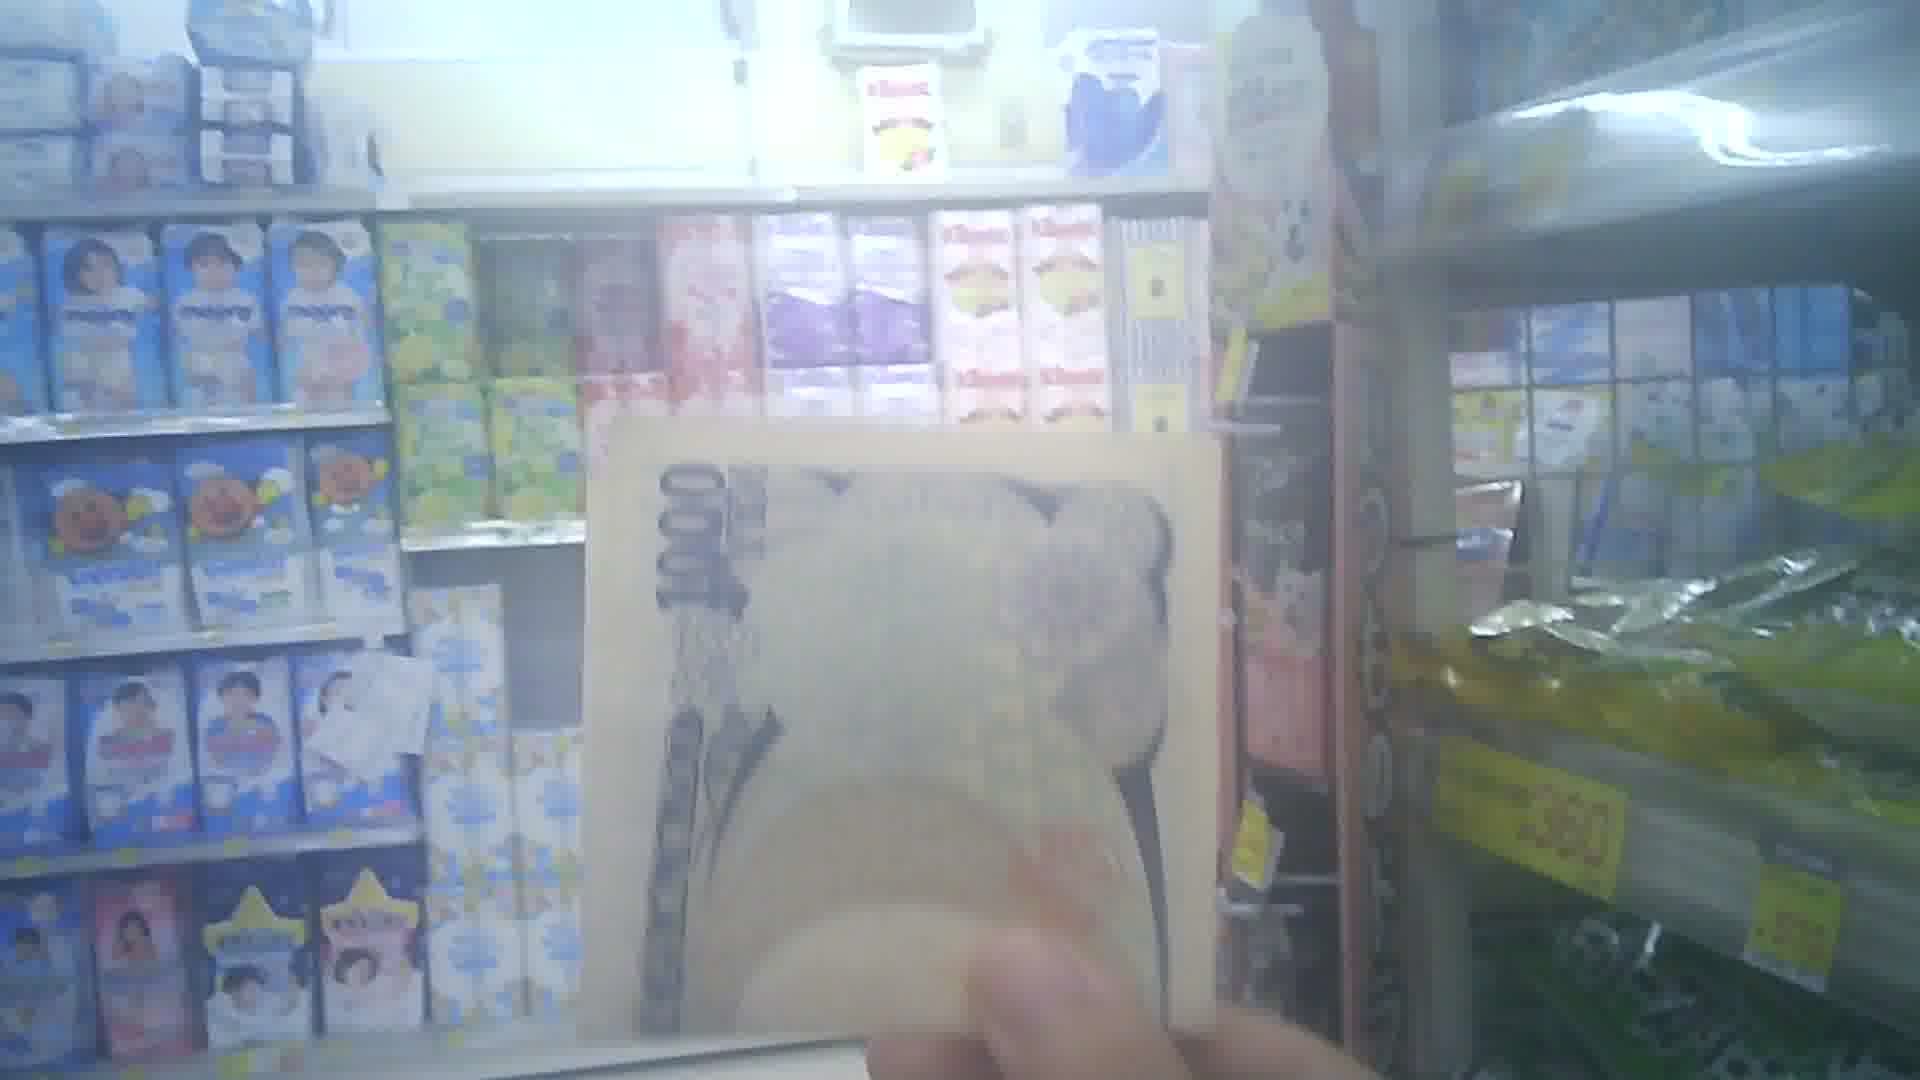1,000 Yen: (578, 400, 1241, 1021)
